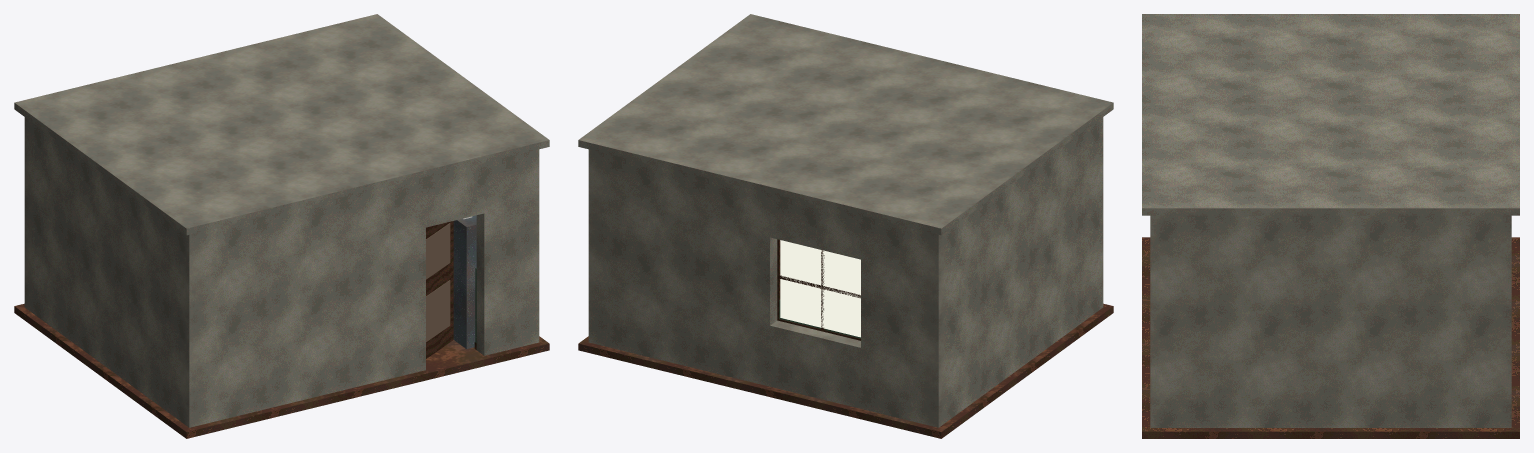
File: ep_entrevista.glb
3 views of the same model, side by side, from view 1: azimuth 30°, elevation 25°; view 2: azimuth 150°, elevation 25°; view 3: azimuth 270°, elevation 25° (orthographic). The views are drawn at different scales.
Parts seen in each view (by area): view 1: plaster-col, linoleum-col, metal-col, flat, wood_dark; view 2: plaster-col, linoleum-col, flat.002, wood_dark; view 3: plaster-col, linoleum-col.
Part boxes in pixels (x1,y1,x2,y2): plaster-col: [14, 14, 549, 427]; linoleum-col: [14, 303, 549, 438]; metal-col: [453, 215, 476, 349]; flat: [426, 223, 450, 341]; wood_dark: [426, 221, 476, 358]; plaster-col: [578, 14, 1113, 427]; linoleum-col: [578, 303, 1113, 438]; flat.002: [780, 240, 860, 337]; wood_dark: [777, 239, 860, 340]; plaster-col: [1142, 14, 1519, 427]; linoleum-col: [1142, 237, 1519, 438].
Bounding box in the file's own units: 5.6 × 3.1 × 4.6.
39 materials, 10 textured.
